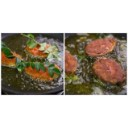seerfish: (95, 58, 125, 85), (23, 60, 61, 81), (82, 37, 117, 55), (65, 48, 78, 74)
